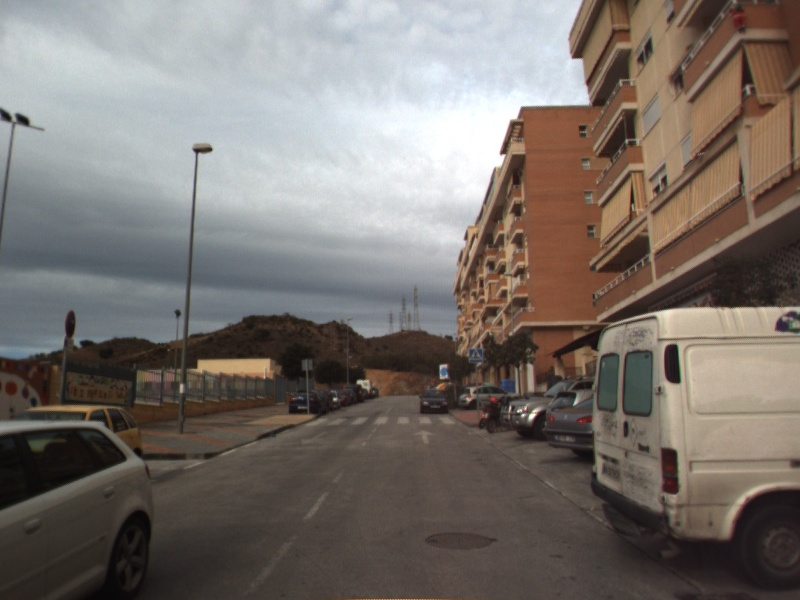STRAIGHT: (411, 427, 439, 445)
